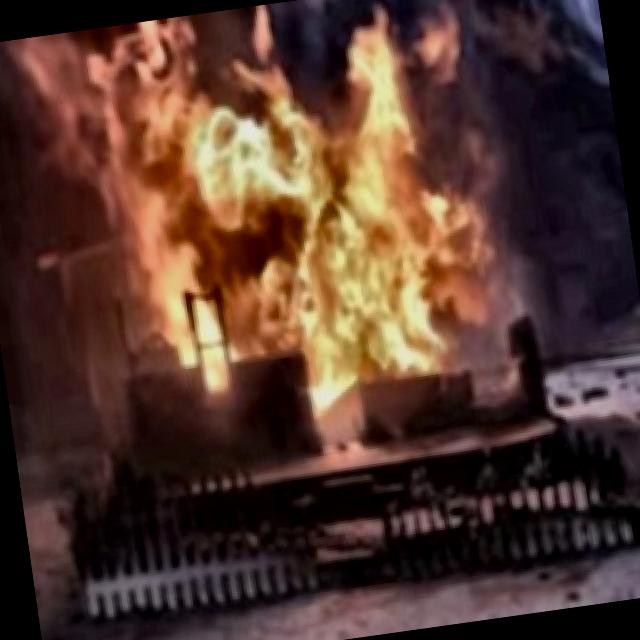fire: (3, 0, 538, 459)
